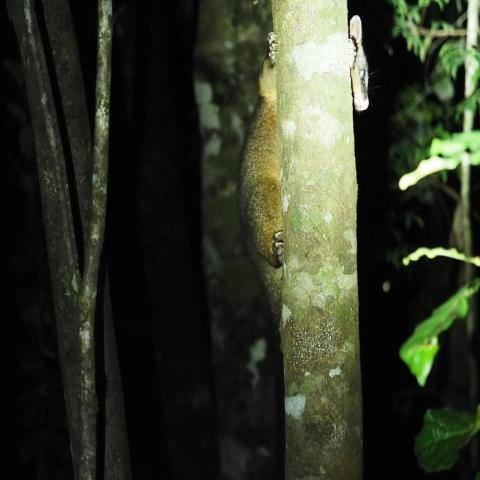small_animal: (236, 11, 372, 328)
